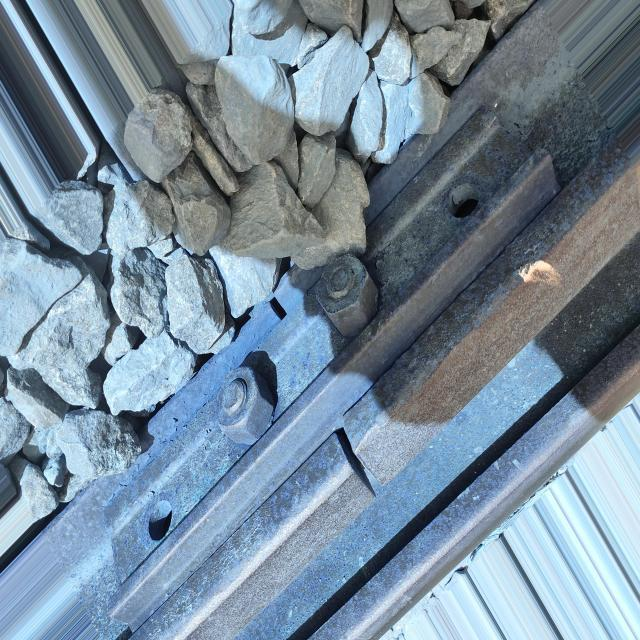Defective Joint: (51, 107, 565, 631)
